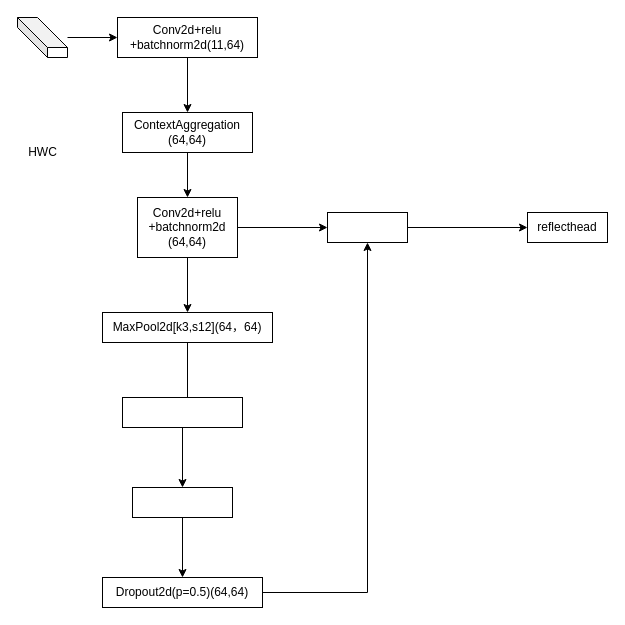
Some shapes in this 625 by 625 pixel diagram are drawn without their labels. Here are the shapes that lost their labels. From the top down, the centre of each, then its label:
At point 367,227: "add(64,64)".
At point 182,412: "Sequential(64,128)".
At point 182,502: "Defire(128,64)".
